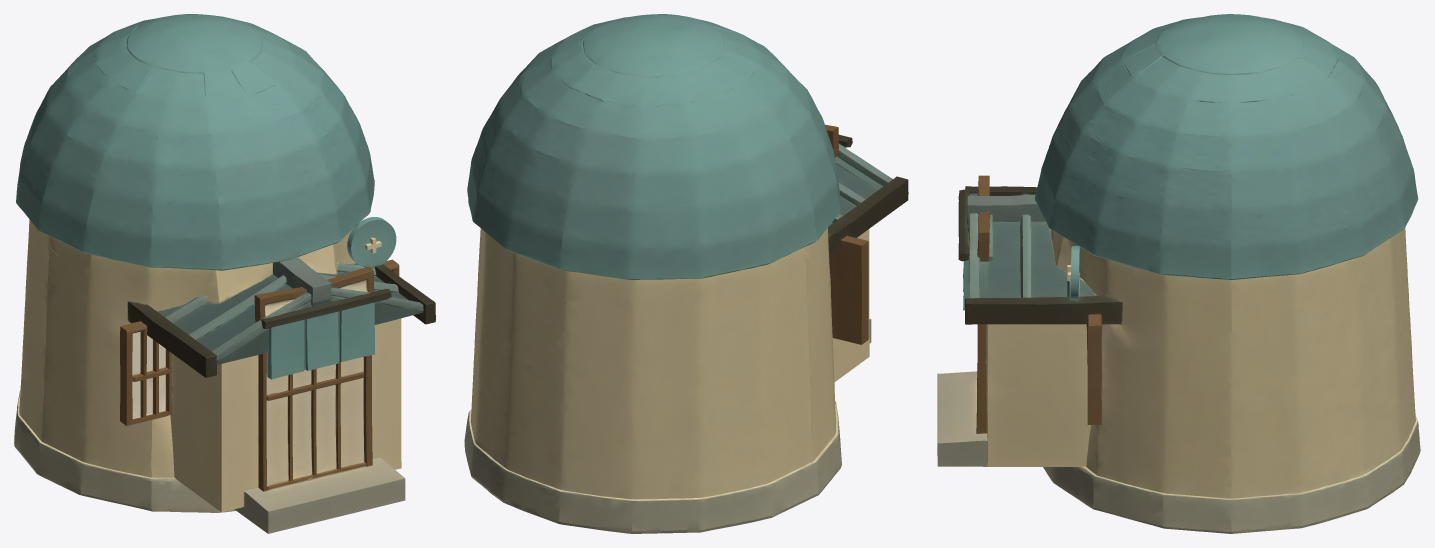
The picture shows the model from 3 angles, left to right: view 1: azimuth 30°, elevation 25°; view 2: azimuth 150°, elevation 25°; view 3: azimuth 270°, elevation 25°; orthographic projection. The views are drawn at different scales.
Parts seen in each view (by area): view 1: model; view 2: model; view 3: model.
Part boxes in pixels (bbox=[...]): model: bbox=[14, 14, 435, 533]; model: bbox=[464, 14, 908, 533]; model: bbox=[937, 14, 1420, 533].
Bounding box in the file's own units: 1.5 × 1.83 × 1.9.
Materials: 1 (1 with a texture image).
